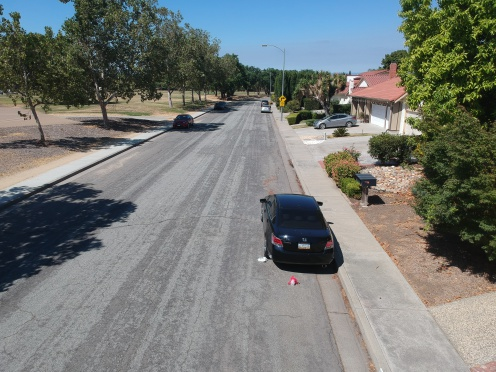plastic bag: (283, 272, 303, 289), (252, 252, 272, 267)
